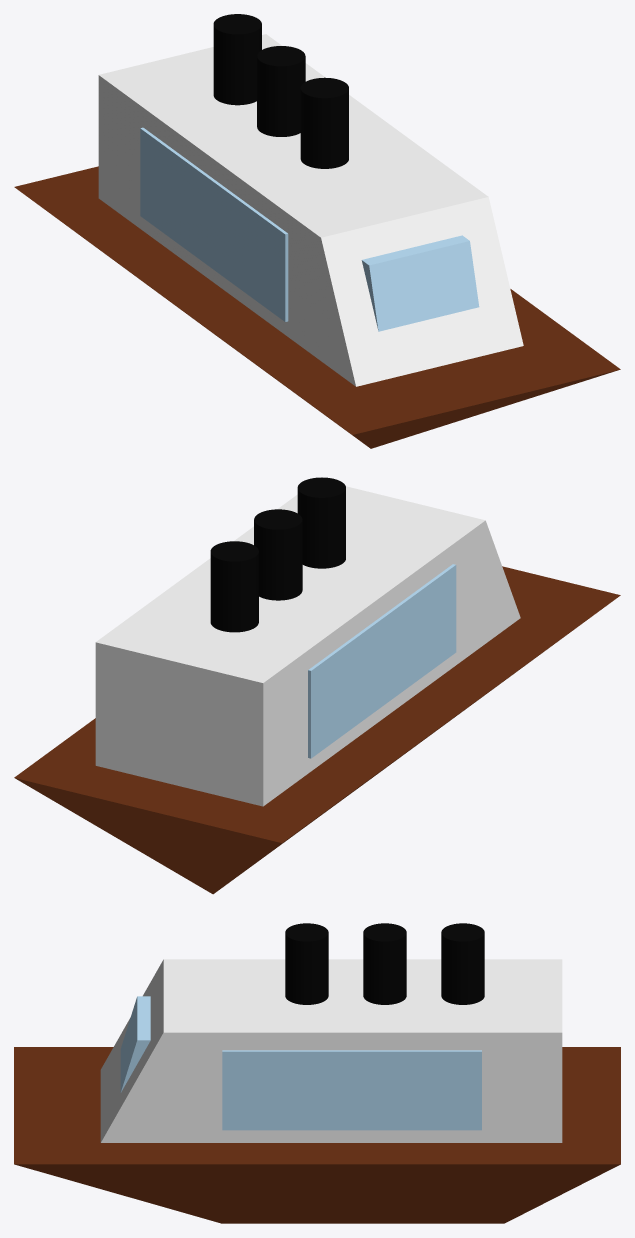
The model's file is titanic.gltf.
The picture shows the model from 3 angles, top to bottom: view 1: azimuth 30°, elevation 25°; view 2: azimuth 150°, elevation 25°; view 3: azimuth 270°, elevation 25°; orthographic projection. The views are drawn at different scales.
Parts seen in each view (by area): view 1: BoatBody, BoatBase, Cube, Cube.001, Chimney.002, Chimney, Chimney.001; view 2: BoatBody, BoatBase, Cube, Chimney, Chimney.001, Chimney.002; view 3: BoatBody, BoatBase, Cube, Chimney, Chimney.001, Chimney.002, Cube.001.
Part boxes in pixels (<box>): BoatBody: <box>98,34,523,386</box>; BoatBase: <box>14,166,620,448</box>; Cube: <box>140,127,288,321</box>; Cube.001: <box>361,235,479,331</box>; Chimney.002: <box>300,77,348,168</box>; Chimney: <box>213,14,261,105</box>; Chimney.001: <box>257,46,305,136</box>; BoatBody: <box>95,486,520,806</box>; BoatBase: <box>14,566,620,894</box>; Cube: <box>308,564,456,758</box>; Chimney: <box>210,541,258,632</box>; Chimney.001: <box>254,509,302,600</box>; Chimney.002: <box>297,477,345,568</box>; BoatBody: <box>100,959,562,1142</box>; BoatBase: <box>14,1047,620,1223</box>; Cube: <box>222,1050,481,1130</box>; Chimney: <box>441,923,484,1004</box>; Chimney.001: <box>363,923,406,1004</box>; Chimney.002: <box>285,923,328,1004</box>; Cube.001: <box>120,996,150,1092</box>.
Size of the model in its own units: 1.6 by 1.86 by 3.5.
